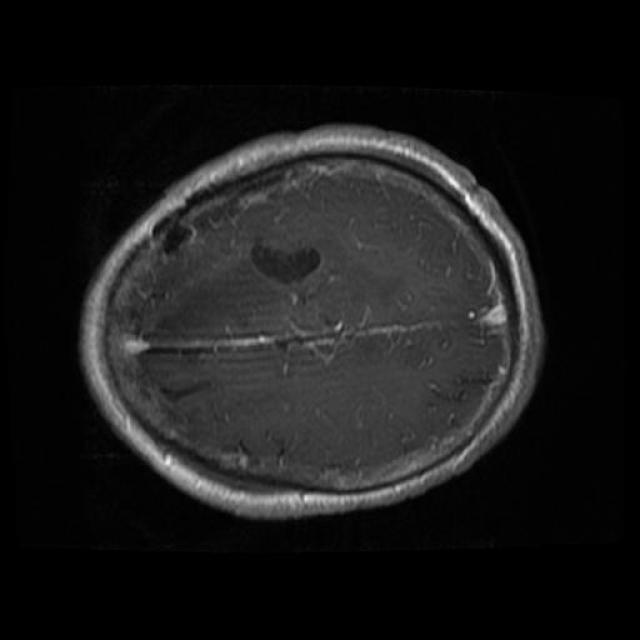Glioma: (251, 242, 320, 284)
